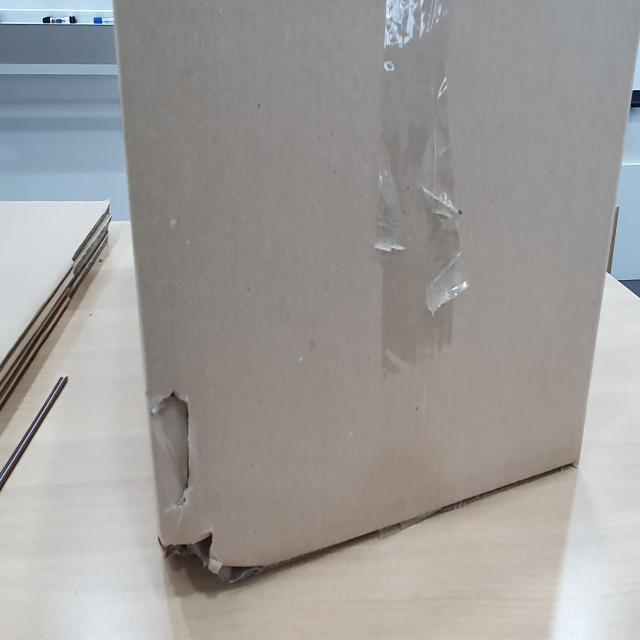hole: (149, 385, 223, 583)
